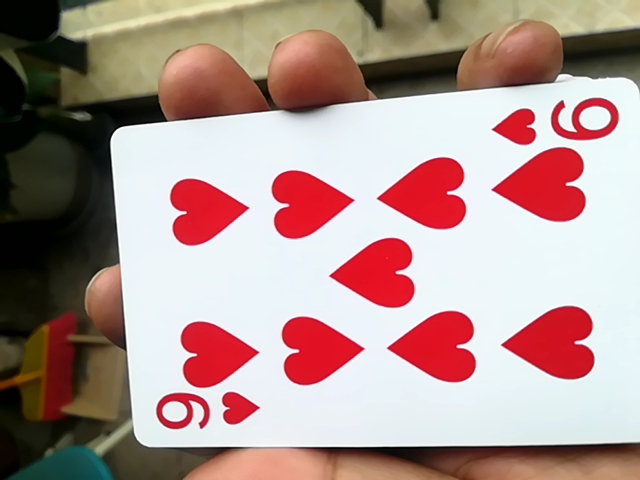hx 9: (98, 101, 634, 462)
